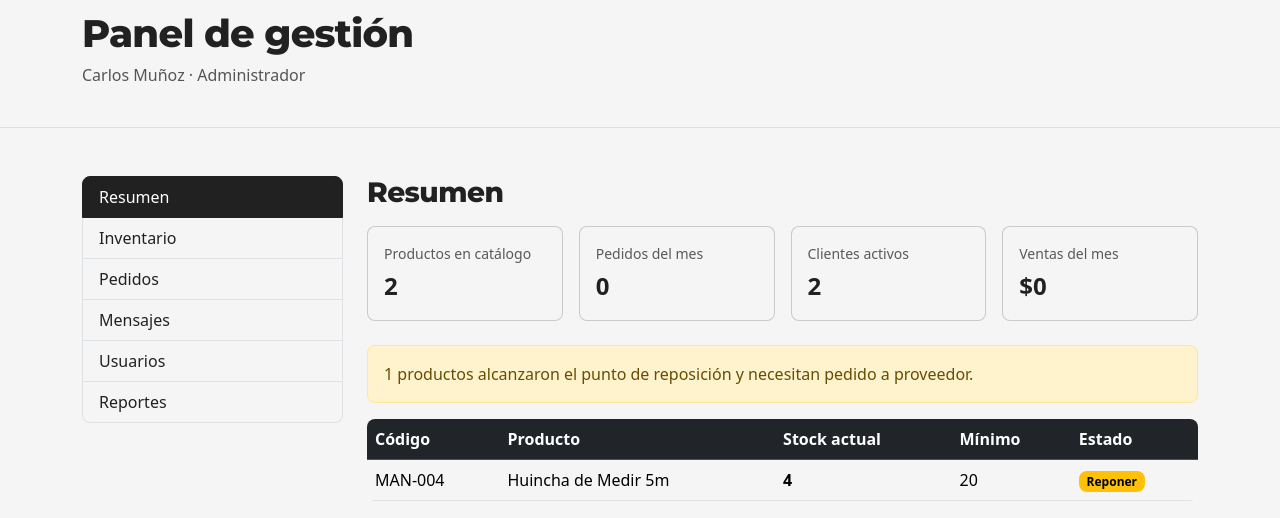
it: Panel › muestra los mensajes enviados desde contacto
Check: the heading "Resumen" is shown, box [367,175,503,209]
What coordinates should you click on to do the following:
click the button "Mensajes"
I would click on:
 (134, 320)
Its box is [82,300,343,341].
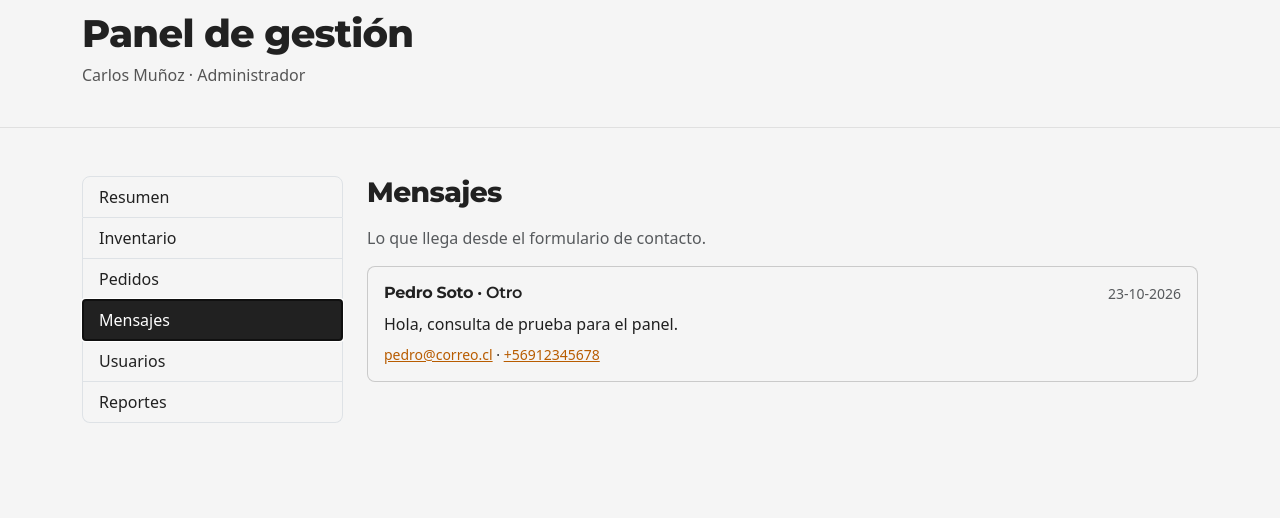
Check: the text "Hola, consulta de prueba para el panel." is shown, box [384,313,678,335]
Check: the text "23-10-2026" is shown, box [1108,283,1181,304]
